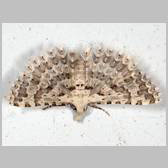Alucitidae: (3, 40, 160, 122)
moth: (5, 40, 162, 122)
